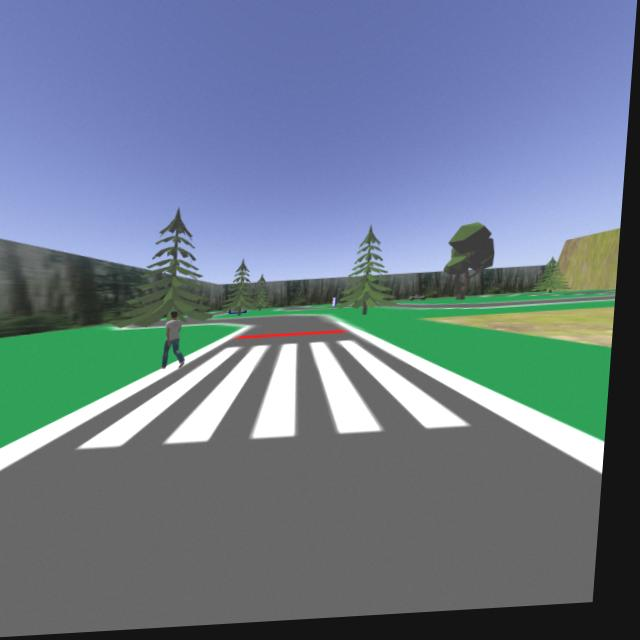pedestrian: (158, 309, 191, 377)
